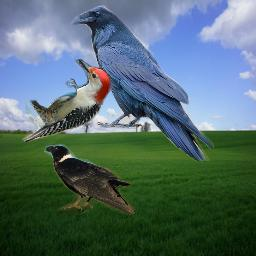Crow: (70, 5, 214, 161), (44, 143, 135, 215)
Woodpecker: (22, 59, 111, 142)
